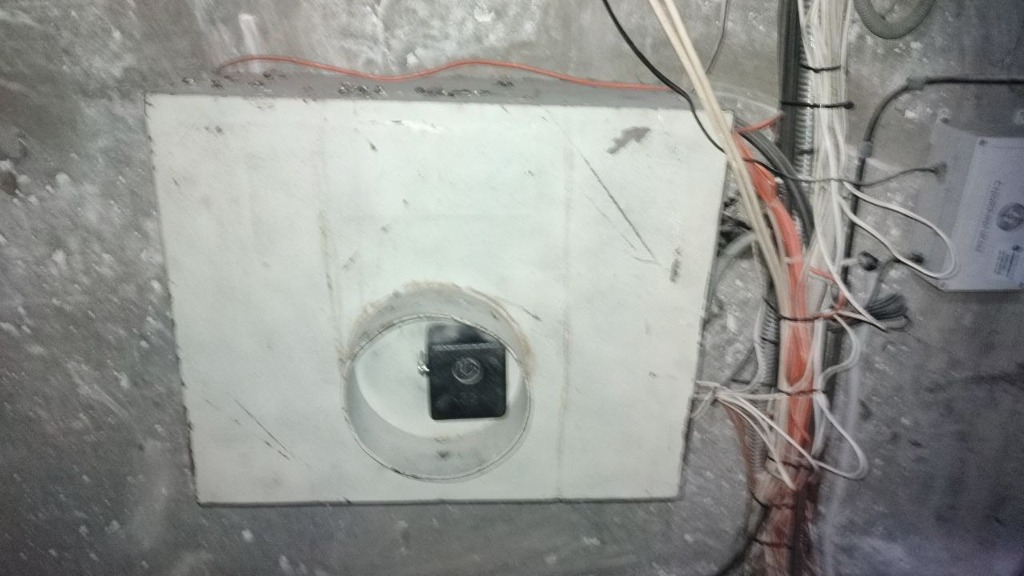shta-3: (140, 68, 738, 510)
